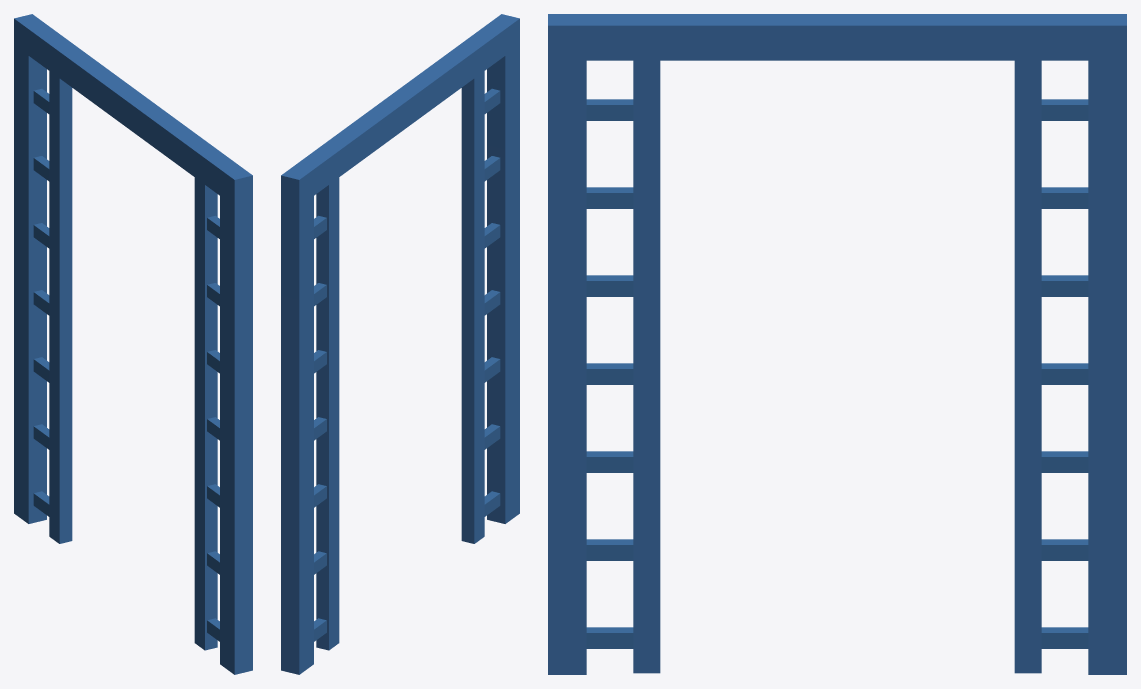
Rendered from Fence_1_D_1.fbx.
The picture shows the model from 3 angles, left to right: view 1: azimuth 30°, elevation 25°; view 2: azimuth 150°, elevation 25°; view 3: azimuth 270°, elevation 25°; orthographic projection. The views are drawn at different scales.
Visible parts, largest first — view 1: Fence_1_D_1; view 2: Fence_1_D_1; view 3: Fence_1_D_1.
Part boxes in pixels (box(x1,y1,x2,y2)): Fence_1_D_1: box(14, 14, 252, 674); Fence_1_D_1: box(281, 14, 519, 674); Fence_1_D_1: box(548, 14, 1126, 674).
Size of the model in its own units: 9.6 by 248 by 200.
